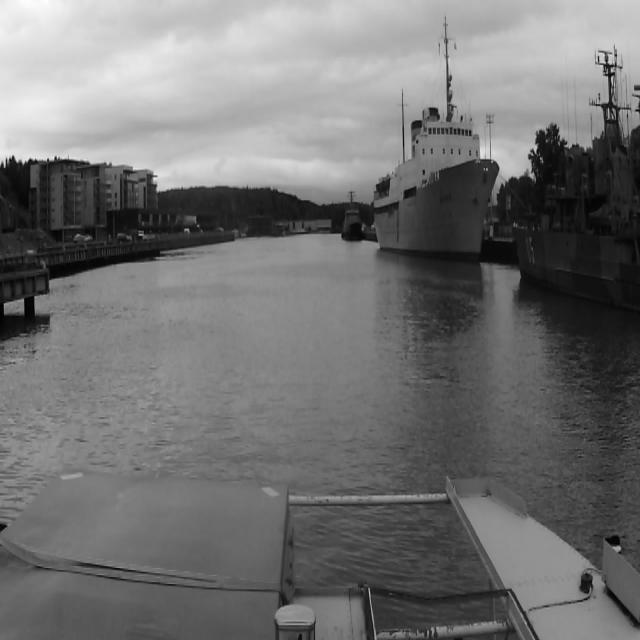ship: (370, 110, 500, 270), (340, 186, 364, 242)
